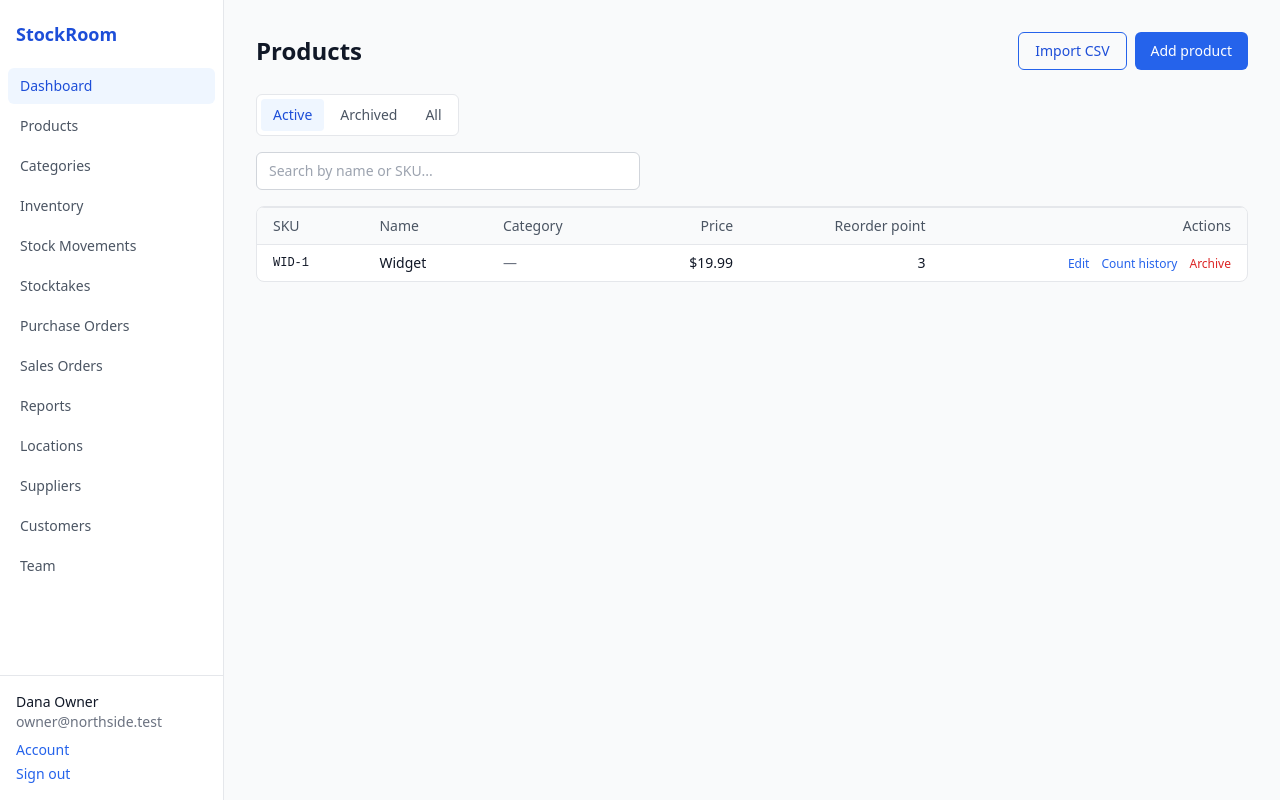
Scenario: ProductsPage edit › opens the form prefilled with the product's current values
Check: the text "Widget" is shown, box [364, 244, 487, 281]
Click the button "Edit" at x=1079, y=264, box [1068, 256, 1089, 272]
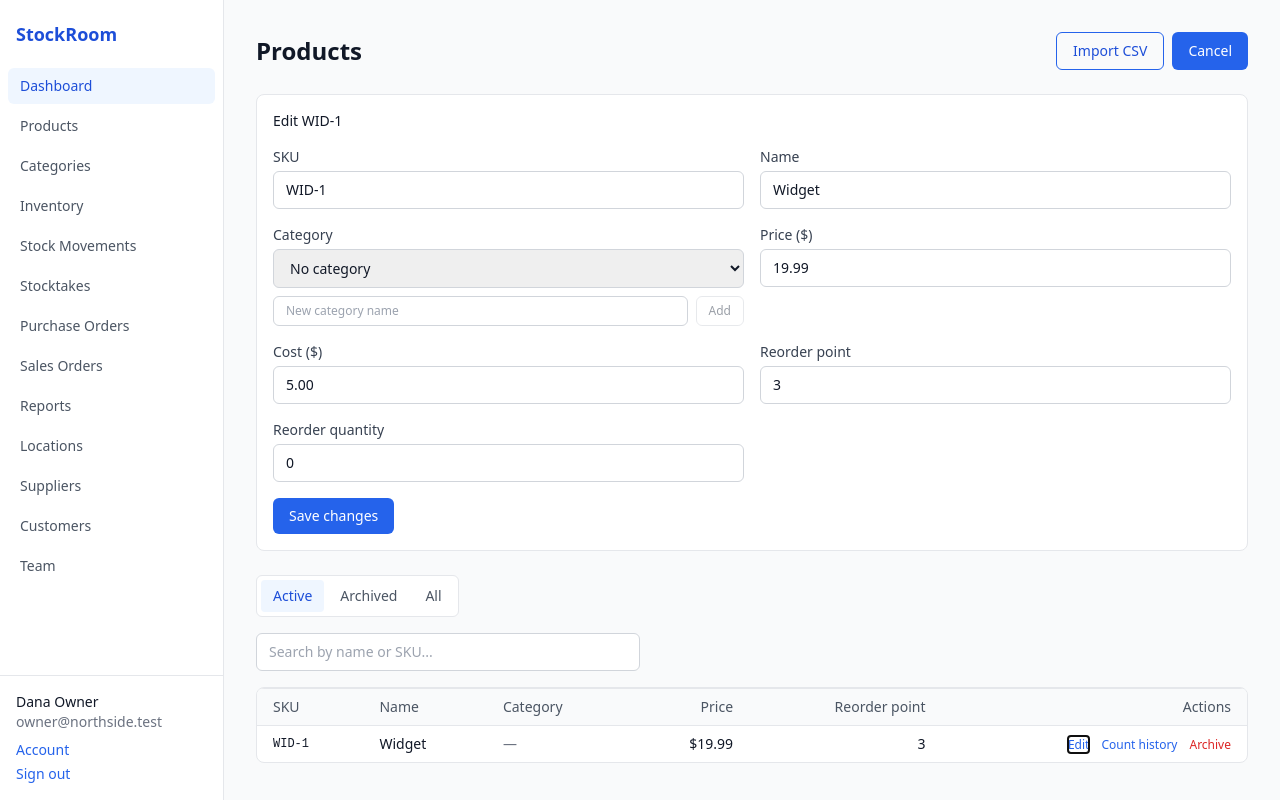
Check: the field labelled "SKU" holds "WID-1", box [273, 171, 744, 209]
Check: the field labelled "Name" holds "Widget", box [760, 171, 1231, 209]
Check: the number field labelled "Price ($)" holds "19.99", box [760, 249, 1231, 287]
